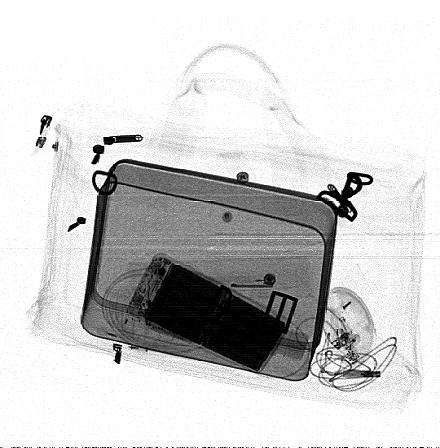Powerbank: (122, 254, 289, 375)
